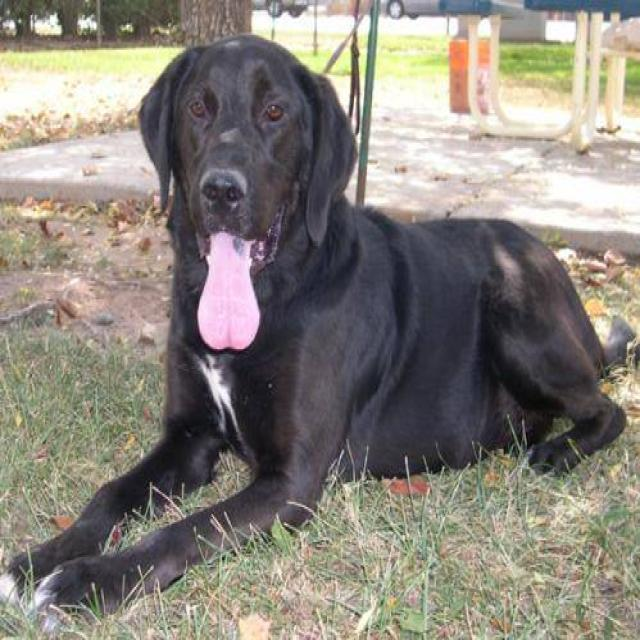adult_dog: (8, 27, 630, 626)
